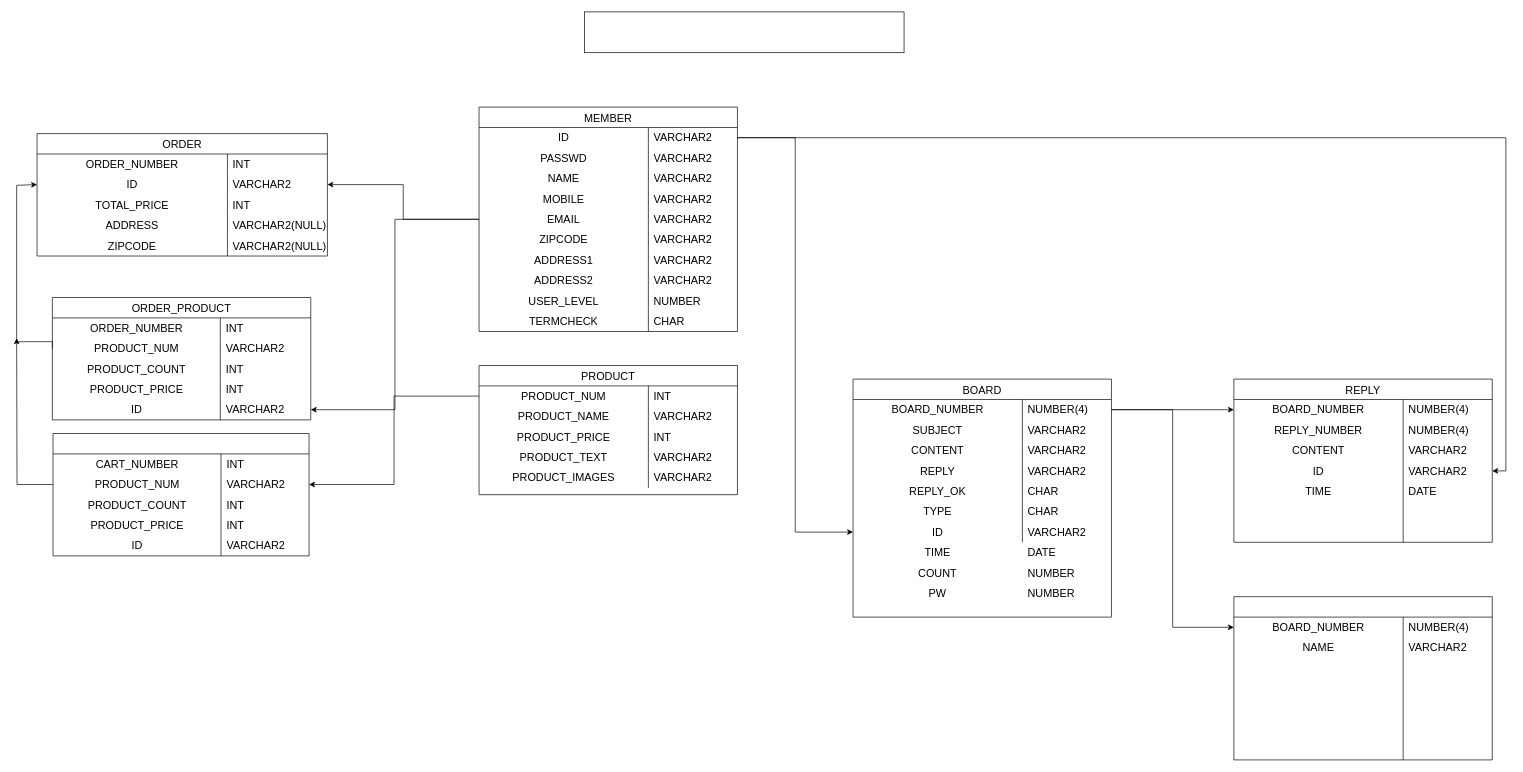
Some shapes in this 1523 by 772 pixel diagram are drawn without their labels. Each missing label, with the box of its shape:
ATTACHMENT: (1233, 596, 1492, 760)
CART_PRODUCT: (52, 433, 309, 556)
이거 추가 할때 Ctrl+Enter 누르면 늘어납니다.: (584, 11, 904, 53)
